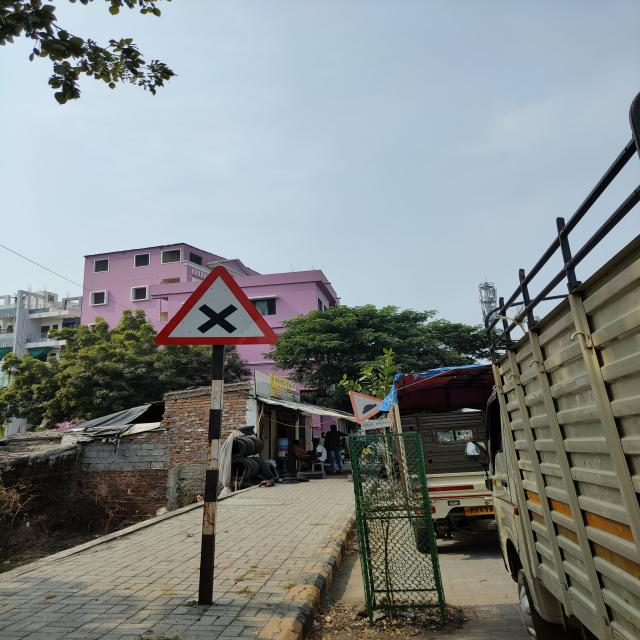cross_road: (147, 264, 285, 347)
